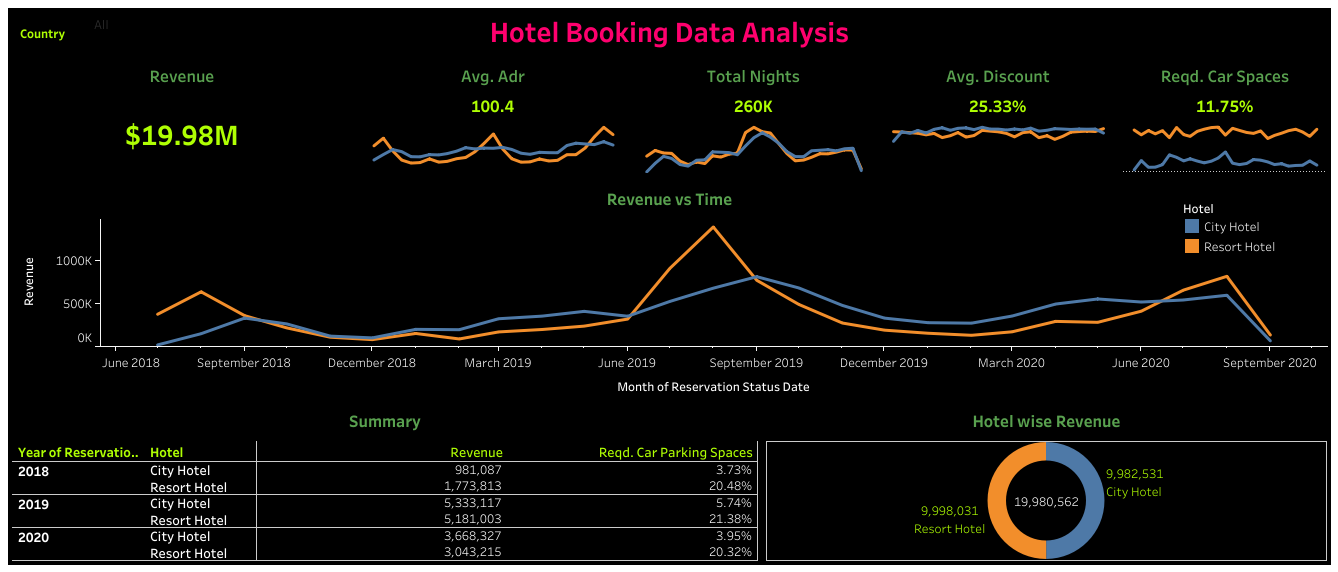

Layout of this report page (visuals, bound fields, positions):
{"tool":"tableau","page":{"name":"Dashboard 1","canvas":[1000,1000],"units":"permille","ordinal":0},"visuals":[{"type":"title","box":[7,12.7,986.1,71.2]},{"type":"filter","title":"Revenue","param":"[federated.1w2ww4s064gpob17p1597170fudw].[none:country:nk]","box":[14.8,26.9,107,61.7]},{"type":"worksheet","title":"Revenue","mark":"Automatic","box":[7,83.9,259.1,216.7]},{"type":"worksheet","title":"Avg. Adr","mark":"Automatic","box":[266,83.9,204.3,115.5]},{"type":"worksheet","title":"Total Nights","mark":"Automatic","box":[470.4,83.9,184.3,115.5]},{"type":"worksheet","title":"Avg. Discount","mark":"Automatic","box":[654.7,83.9,180,115.5]},{"type":"worksheet","title":"Reqd. Car Spaces","mark":"Automatic","box":[834.7,83.9,158.3,115.5]},{"type":"worksheet","title":"Adr vs Time ","mark":"Automatic","rows":["adr"],"cols":["reservation_status_date"],"box":[266,199.4,204.3,101.2]},{"type":"worksheet","title":"Total Nights vs Time","mark":"Automatic","rows":["Total_Nights"],"cols":["reservation_status_date"],"box":[470.4,199.4,184.3,101.2]},{"type":"worksheet","title":"Discount vs Time","mark":"Automatic","rows":["Discount"],"cols":["reservation_status_date"],"box":[654.7,199.4,180,101.2]},{"type":"worksheet","title":"Car Space vs Time ","mark":"Automatic","rows":["required_car_parking_spaces"],"cols":["reservation_status_date"],"box":[834.7,199.4,158.3,101.2]},{"type":"worksheet","title":"Revenue vs Time","mark":"Automatic","rows":["Revenue"],"cols":["reservation_status_date"],"box":[7,300.6,986.1,394]},{"type":"legend","title":"Revenue vs Time","param":"[federated.1w2ww4s064gpob17p1597170fudw].[none:hotel:nk]","box":[882.6,343.4,121.7,126.6]},{"type":"worksheet","title":"Summary","mark":"Automatic","rows":["reservation_status_date","hotel"],"box":[7,694.6,561.7,292.8]},{"type":"worksheet","title":"Hotel wise Revenue","mark":"Pie","rows":["Calculation_42784206623911936","Calculation_42784206623911936"],"box":[568.7,694.6,424.4,292.8]}]}

Visuals, with their boxes on the dashboard's canvas, which has no fixed pixel size, in thousandths of its width and height (x1, y1, x2, y2). These are canvas units, not pixel positions in the 1338x572 screenshot, which may show the page scaled, cropped or inside an application window:
title: rect(7, 13, 993, 84)
"Revenue" filter: rect(15, 27, 122, 89)
"Revenue" worksheet: rect(7, 84, 266, 301)
"Avg. Adr" worksheet: rect(266, 84, 470, 199)
"Total Nights" worksheet: rect(470, 84, 655, 199)
"Avg. Discount" worksheet: rect(655, 84, 835, 199)
"Reqd. Car Spaces" worksheet: rect(835, 84, 993, 199)
"Adr vs Time " worksheet: rect(266, 199, 470, 301)
"Total Nights vs Time" worksheet: rect(470, 199, 655, 301)
"Discount vs Time" worksheet: rect(655, 199, 835, 301)
"Car Space vs Time " worksheet: rect(835, 199, 993, 301)
"Revenue vs Time" worksheet: rect(7, 301, 993, 695)
"Revenue vs Time" legend: rect(883, 343, 1004, 470)
"Summary" worksheet: rect(7, 695, 569, 987)
"Hotel wise Revenue" worksheet (Pie marks): rect(569, 695, 993, 987)
